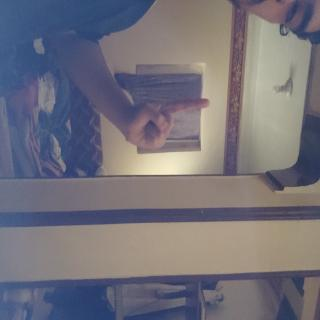BAA: (68, 144, 116, 266)
